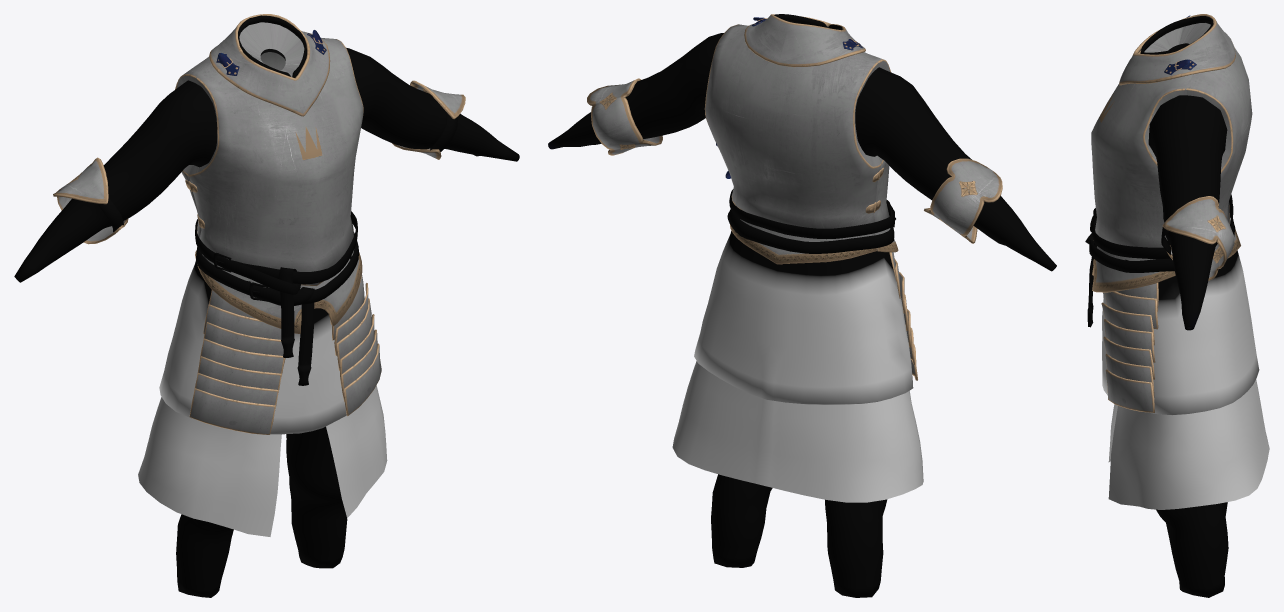
Rendered from swan_knight_armor_2a_t3_slim.fbx.
The picture shows the model from 3 angles, left to right: view 1: azimuth 30°, elevation 25°; view 2: azimuth 150°, elevation 25°; view 3: azimuth 270°, elevation 25°; orthographic projection. The views are drawn at different scales.
Visible parts, largest first — view 1: swan_knight_armor_2a_t3_slim.0, swan_knight_armor_2a_t3_slim.1; view 2: swan_knight_armor_2a_t3_slim.0, swan_knight_armor_2a_t3_slim.1; view 3: swan_knight_armor_2a_t3_slim.0, swan_knight_armor_2a_t3_slim.1.
Boxes of the visible parts, x1,y1,x2,y2 form: swan_knight_armor_2a_t3_slim.0: (14, 15, 519, 597); swan_knight_armor_2a_t3_slim.1: (53, 14, 465, 434); swan_knight_armor_2a_t3_slim.0: (548, 14, 1056, 597); swan_knight_armor_2a_t3_slim.1: (587, 14, 1002, 380); swan_knight_armor_2a_t3_slim.0: (1085, 16, 1269, 597); swan_knight_armor_2a_t3_slim.1: (1091, 14, 1252, 412).
Size of the model in its own units: 1.3 by 0.424 by 1.37.
